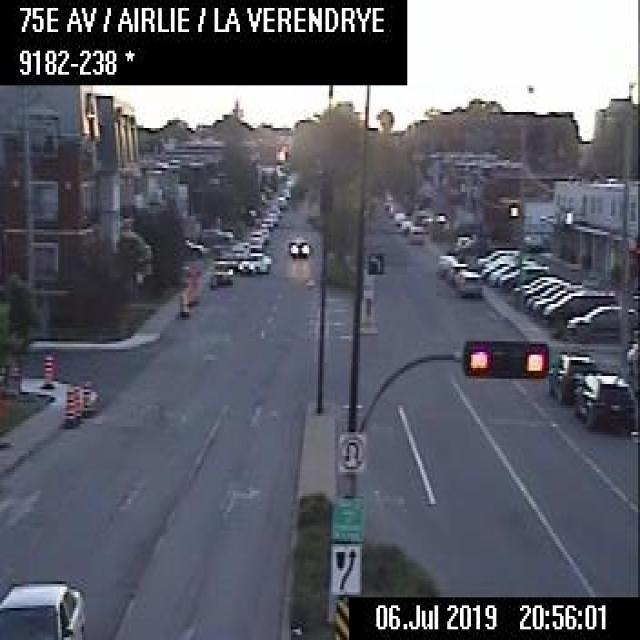construction: (62, 381, 73, 427), (80, 378, 91, 414), (71, 382, 81, 419), (178, 279, 189, 312), (6, 360, 17, 393), (41, 352, 51, 387)
vehicle: (0, 579, 84, 637), (574, 371, 633, 424), (542, 287, 615, 325), (546, 350, 595, 405), (566, 302, 636, 340), (497, 264, 547, 292), (488, 259, 538, 286), (239, 250, 269, 274), (451, 267, 478, 293), (209, 258, 233, 282), (434, 252, 456, 275), (445, 261, 467, 281), (288, 235, 308, 253), (406, 224, 424, 242), (230, 242, 248, 258), (246, 234, 260, 248)
